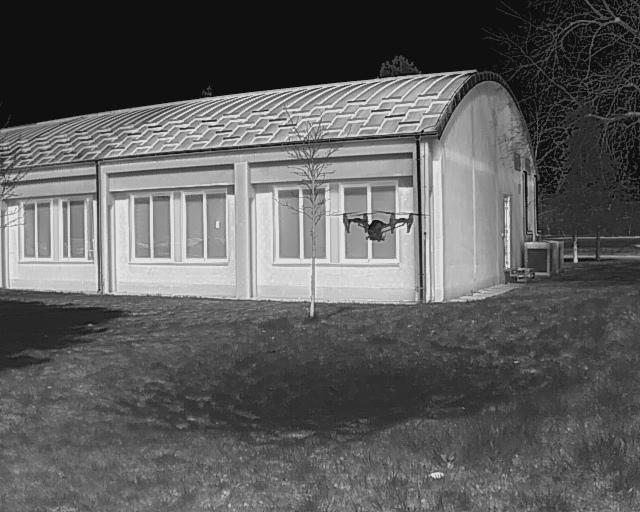drone: (327, 192, 427, 257)
